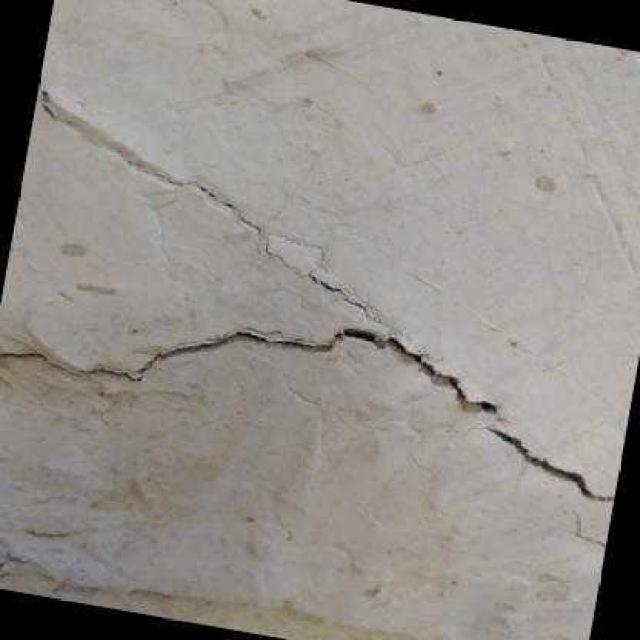D00: (0, 326, 493, 413), (492, 428, 615, 503)
